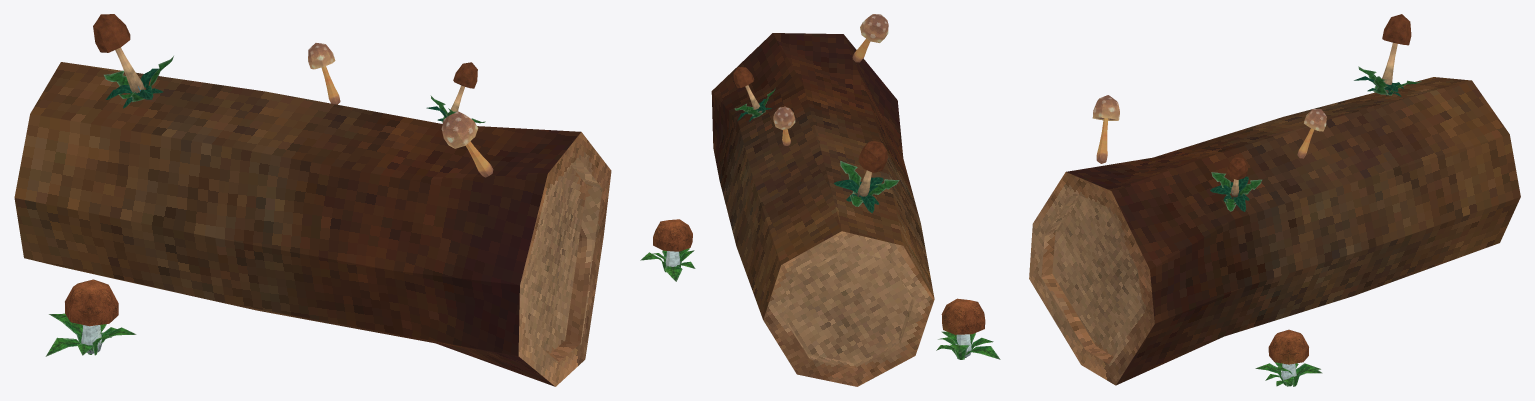
Rendered from prefab_18.glb.
3 renders of one model, left to right at view 1: azimuth 30°, elevation 25°; view 2: azimuth 150°, elevation 25°; view 3: azimuth 270°, elevation 25°, orthographic. The views are drawn at different scales.
Parts seen in each view (by area): view 1: PRFB_18; view 2: PRFB_18; view 3: PRFB_18.
Part boxes in pixels (x1,y1,x2,y2): PRFB_18: (14,14,611,386); PRFB_18: (640,14,1000,386); PRFB_18: (1029,14,1520,386).
Bounding box in the file's own units: 2.35 × 1.43 × 2.59.
Materials: 3 (3 with a texture image).
